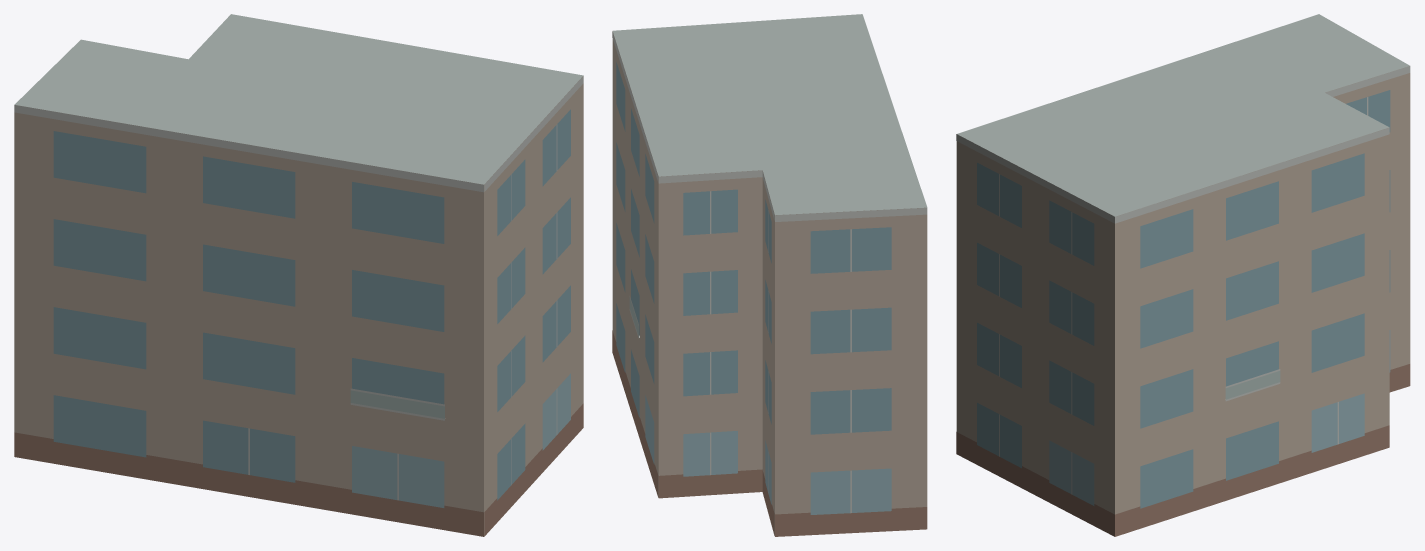
Rendered from survey-upis-32672419.glb.
3 renders of one model, left to right at view 1: azimuth 30°, elevation 25°; view 2: azimuth 150°, elevation 25°; view 3: azimuth 270°, elevation 25°, orthographic. The views are drawn at different scales.
Parts seen in each view (by area): view 1: survey-upis-32672419.tmp; view 2: survey-upis-32672419.tmp; view 3: survey-upis-32672419.tmp.
Part boxes in pixels (left/top/right/bottom): survey-upis-32672419.tmp: left=14, top=14, right=583, bottom=536; survey-upis-32672419.tmp: left=612, top=14, right=927, bottom=536; survey-upis-32672419.tmp: left=956, top=14, right=1410, bottom=536.
Size of the model in its own units: 15.29 by 11.25 by 14.46.
